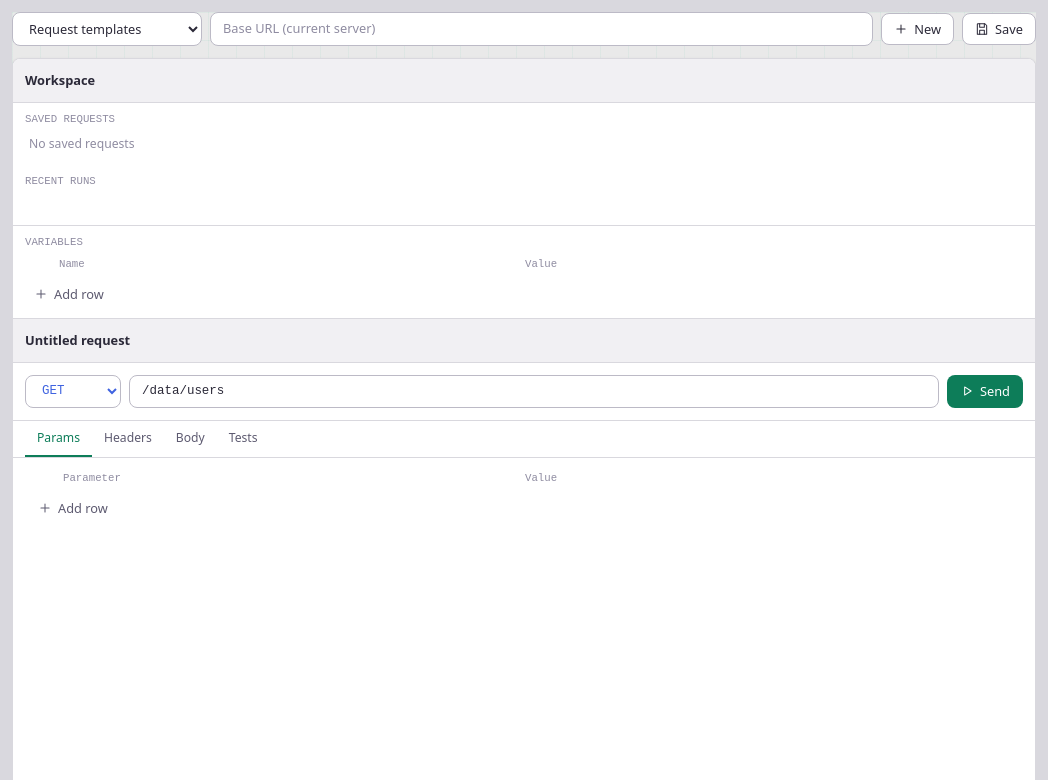
Scenario: PlaygroundPage › saves the current request to the local workspace
What coordinates should you click on to do the following:
click the button "Save"
I would click on:
 (999, 29)
Its box is top-left (962, 13), bottom-right (1036, 45).
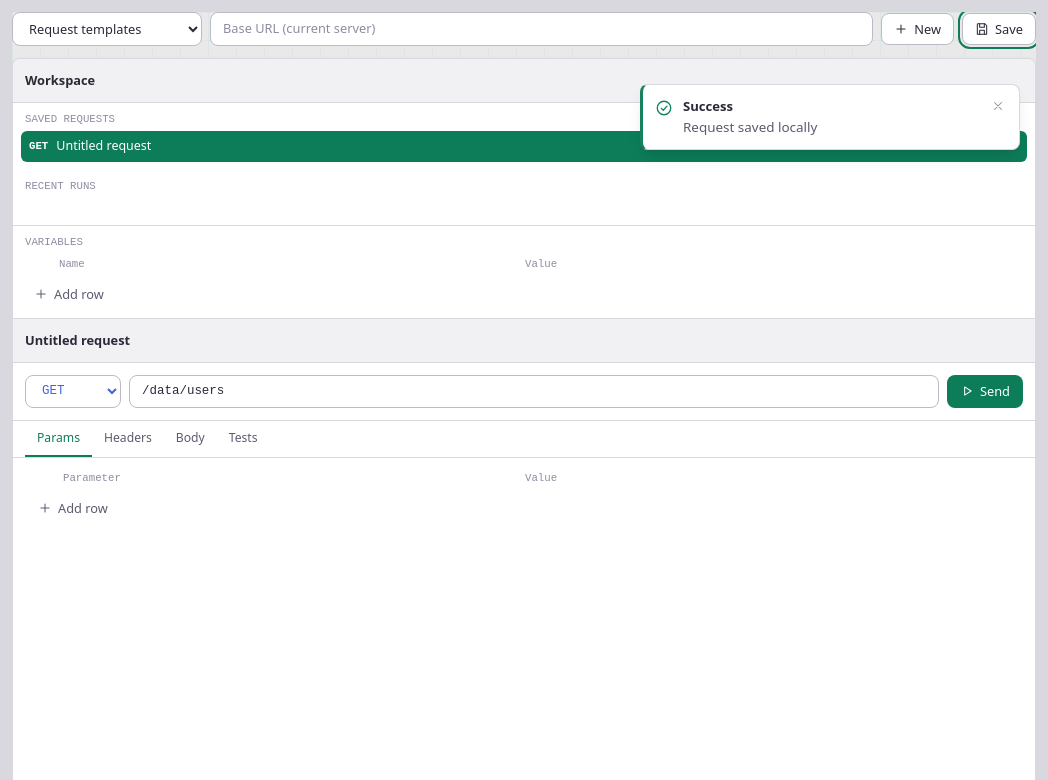
Expected: the text "Untitled request" is shown, top-left (56, 137), bottom-right (151, 154)
